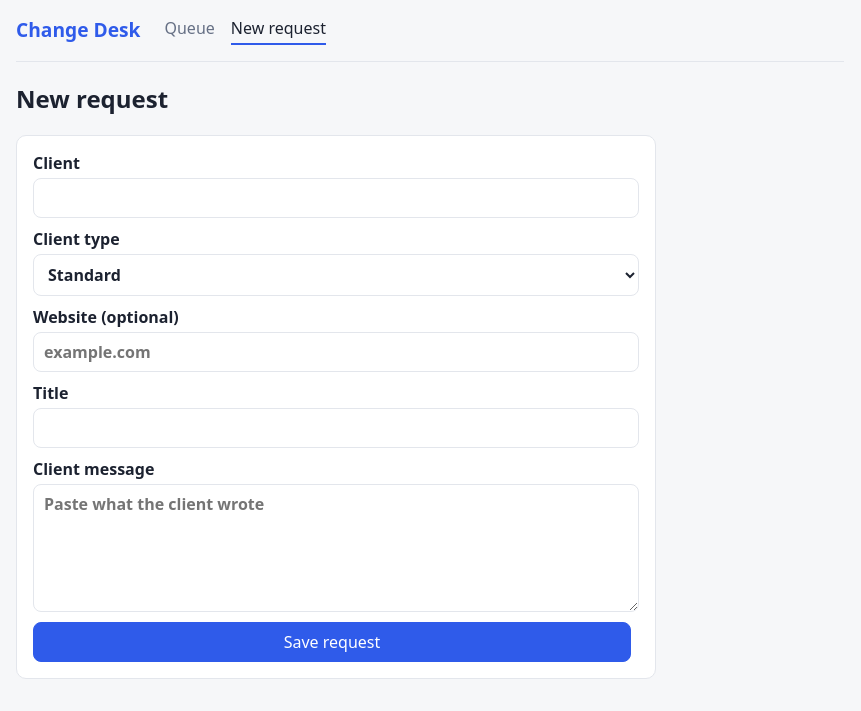
Test: New request page › warns about a duplicate from the same client but still allows saving (AC8)
Type "Acme" into the field labelled "Client" at (336, 198), box [33,178,639,218]
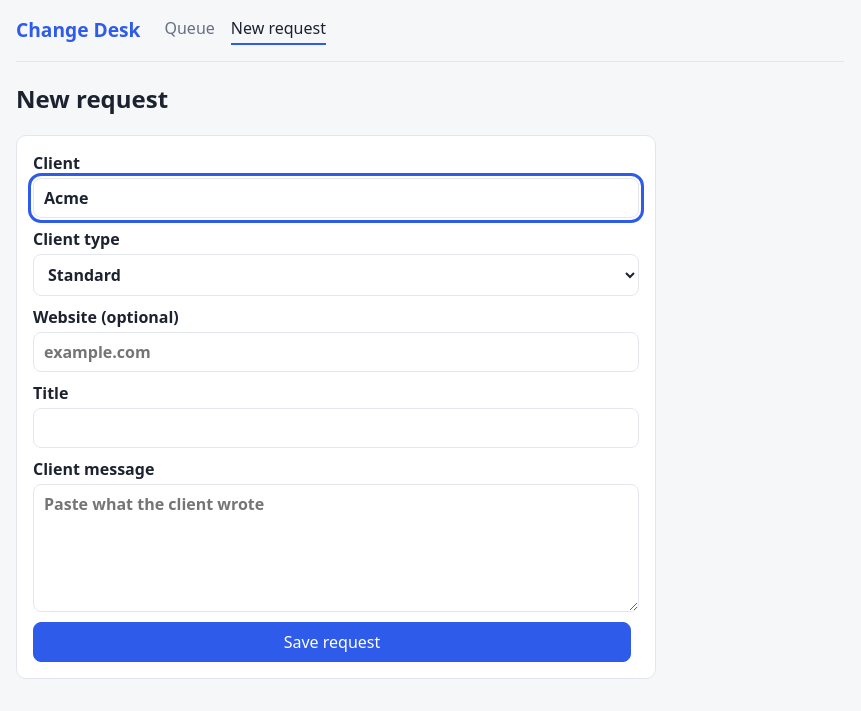
Type "Email bounce" into the field labelled "Title" at (336, 428), box [33,408,639,448]
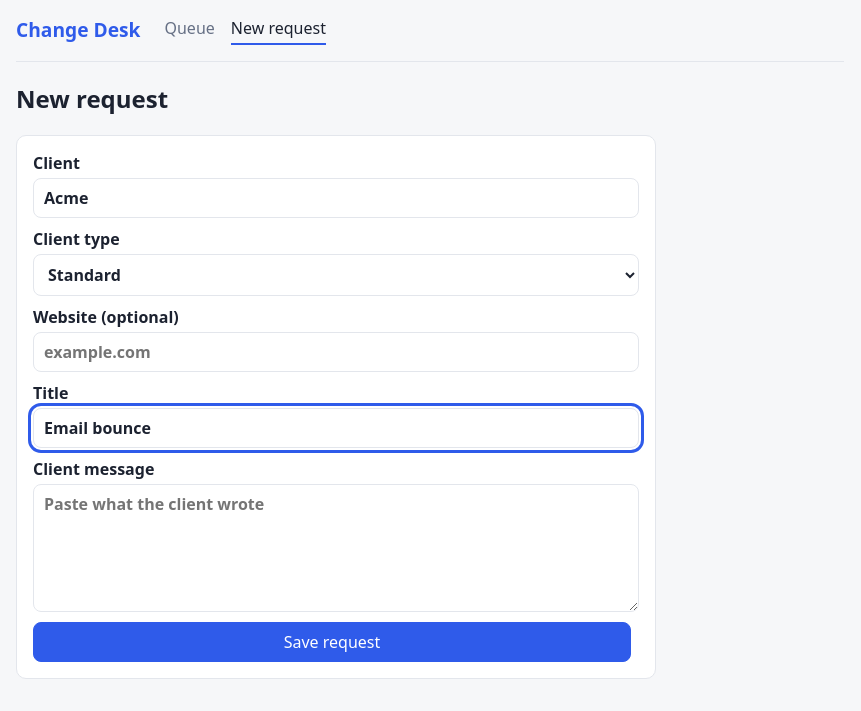
Type "Emails sent to our domain bounce back" into the text box labelled "Client message" at (336, 548), box [33,484,639,612]
(page scrolled)
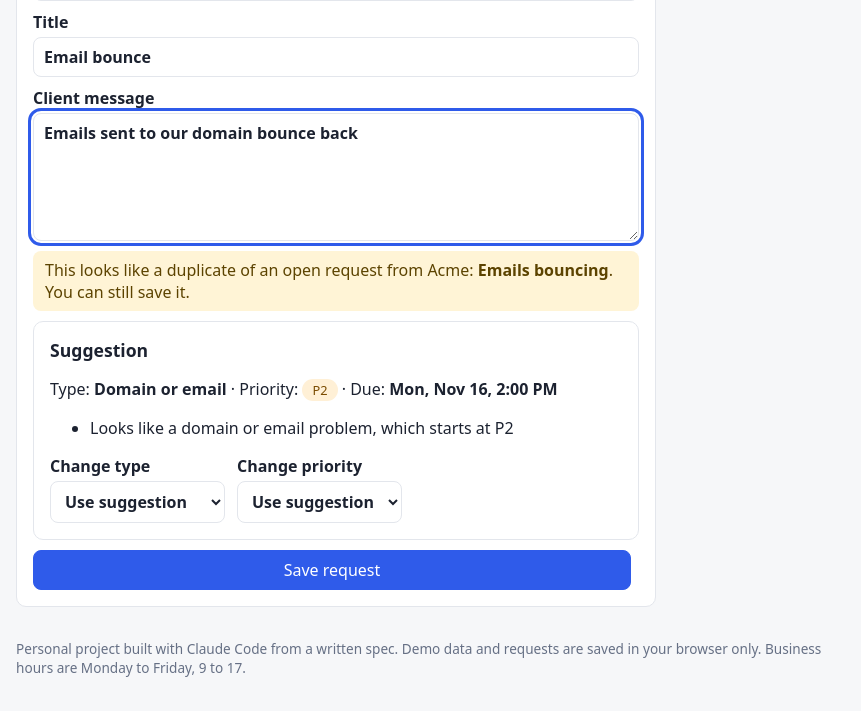
Expected: the button "Save request" is enabled, [33,550,631,590]
Expected: the message shows "duplicate", [45,259,427,281]
